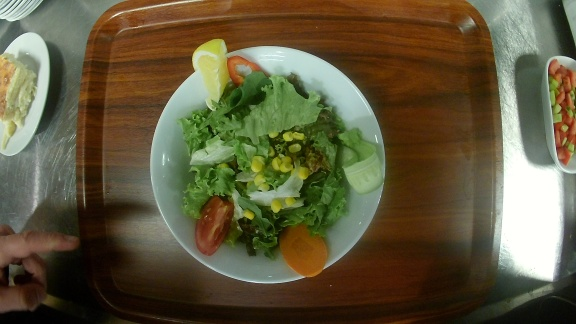salata: (150, 39, 386, 284)
